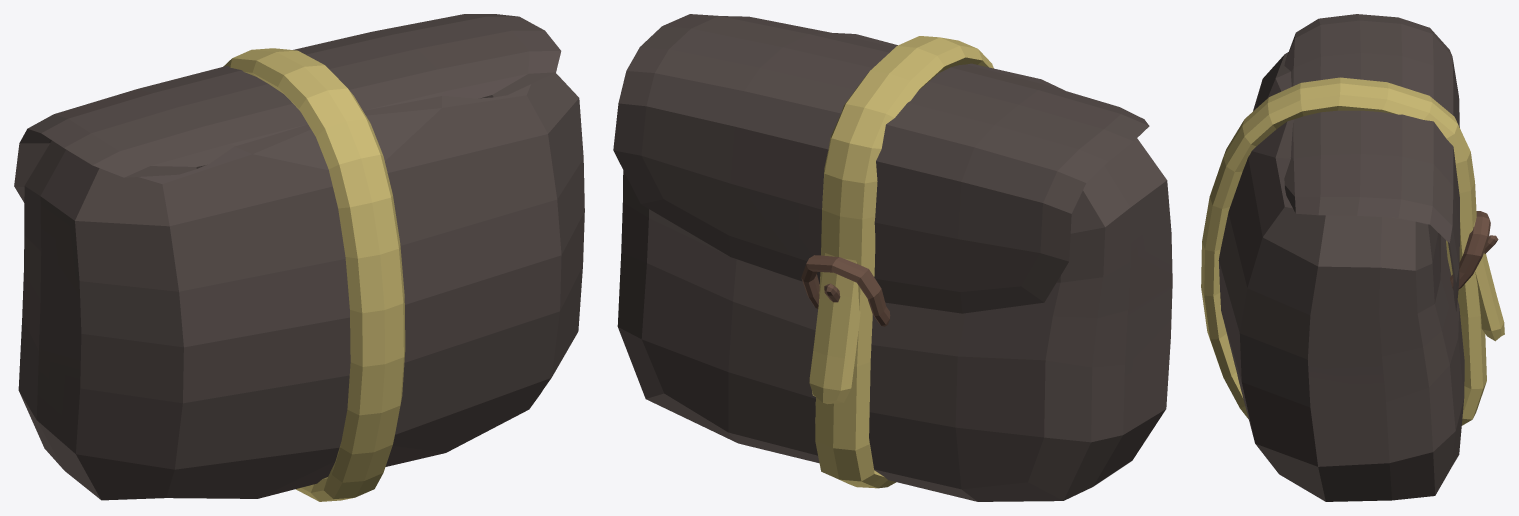
The model's file is SM_Bag.fbx.
3 renders of one model, left to right at view 1: azimuth 30°, elevation 25°; view 2: azimuth 150°, elevation 25°; view 3: azimuth 270°, elevation 25°, orthographic. The views are drawn at different scales.
Parts seen in each view (by area): view 1: SM_Bag; view 2: SM_Bag; view 3: SM_Bag.
Boxes of the visible parts, x1,y1,x2,y2 form: SM_Bag: (14, 14, 584, 501); SM_Bag: (613, 14, 1172, 501); SM_Bag: (1201, 14, 1504, 501).
Size of the model in its own units: 80.17 by 62.74 by 48.67.
